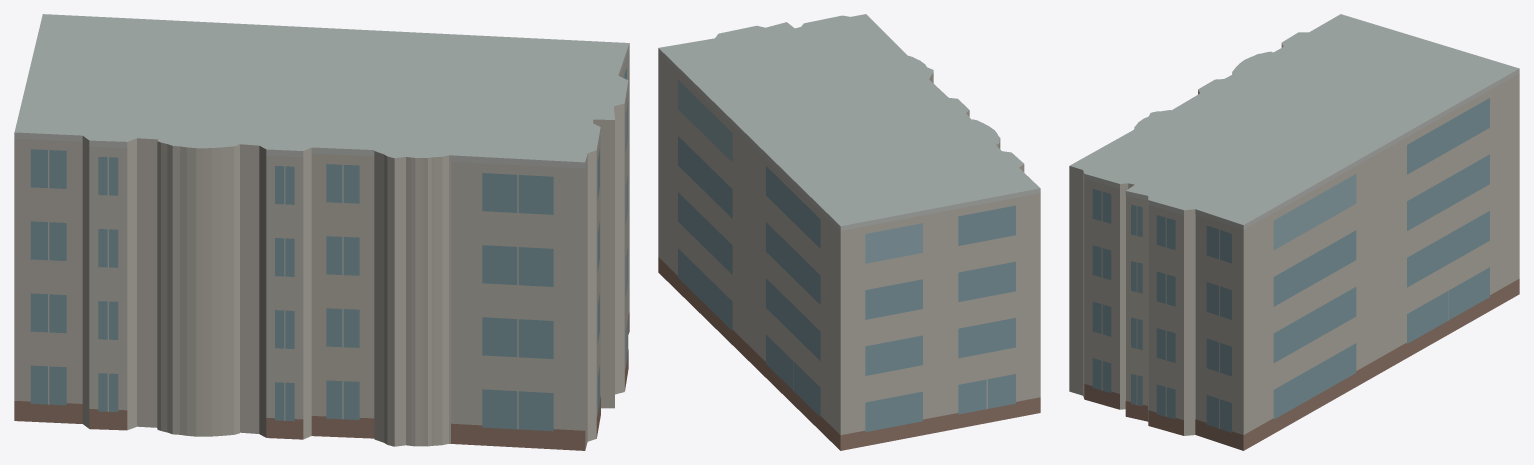
File: survey-upis-32628279.glb
The picture shows the model from 3 angles, left to right: view 1: azimuth 30°, elevation 25°; view 2: azimuth 150°, elevation 25°; view 3: azimuth 270°, elevation 25°; orthographic projection. The views are drawn at different scales.
Visible parts, largest first — view 1: survey-upis-32628279.tmp; view 2: survey-upis-32628279.tmp; view 3: survey-upis-32628279.tmp.
Part boxes in pixels (x1=…): survey-upis-32628279.tmp: x1=14, y1=14, x2=629, y2=450; survey-upis-32628279.tmp: x1=658, y1=14, x2=1040, y2=450; survey-upis-32628279.tmp: x1=1069, y1=14, x2=1519, y2=450.
Size of the model in its own units: 23.08 by 11.5 by 20.79.
